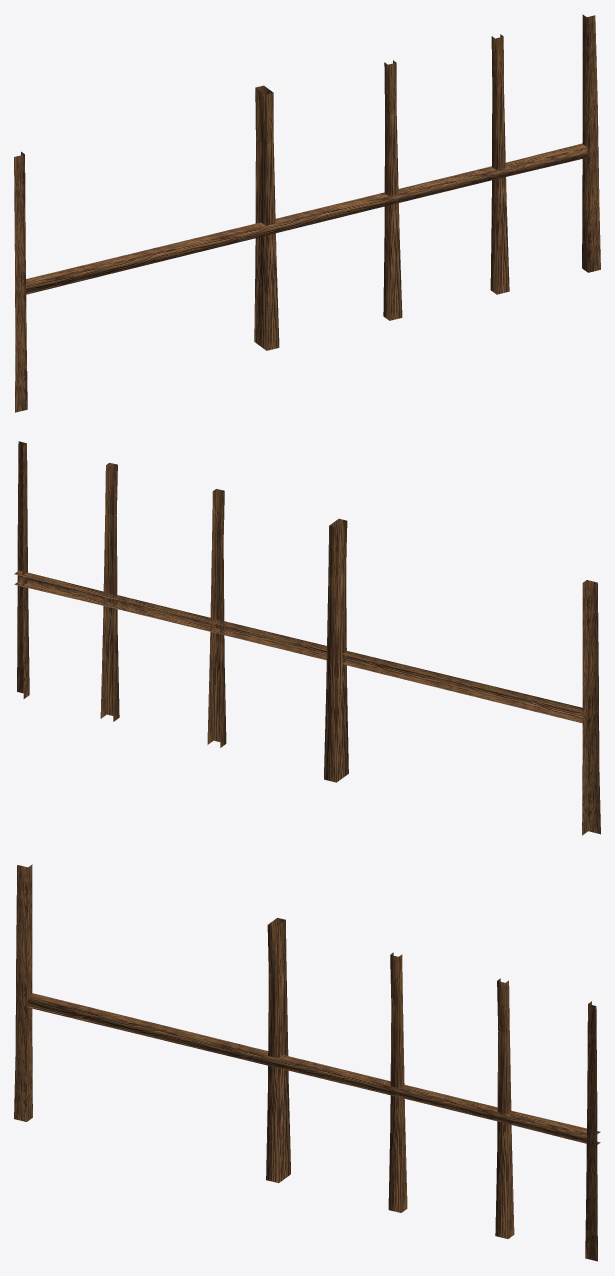
Rendered from LAKETOWN_WAREHOUSE1_PS_WH1_SIDEBEAMS94948.fbx.
3 renders of one model, top to bottom at view 1: azimuth 30°, elevation 25°; view 2: azimuth 150°, elevation 25°; view 3: azimuth 330°, elevation 25°, orthographic.
Visible parts, largest first — view 1: LAKETOWN_WAREHOUSE1_PS_WH1_SIDEBEAMS94948; view 2: LAKETOWN_WAREHOUSE1_PS_WH1_SIDEBEAMS94948; view 3: LAKETOWN_WAREHOUSE1_PS_WH1_SIDEBEAMS94948.
Part boxes in pixels (box(x1,y1,x2,y2)): LAKETOWN_WAREHOUSE1_PS_WH1_SIDEBEAMS94948: box(14, 14, 600, 412); LAKETOWN_WAREHOUSE1_PS_WH1_SIDEBEAMS94948: box(14, 441, 600, 835); LAKETOWN_WAREHOUSE1_PS_WH1_SIDEBEAMS94948: box(14, 864, 600, 1261).
Size of the model in its own units: 196867 by 81858 by 7556.
Materials: 1 (1 with a texture image).
